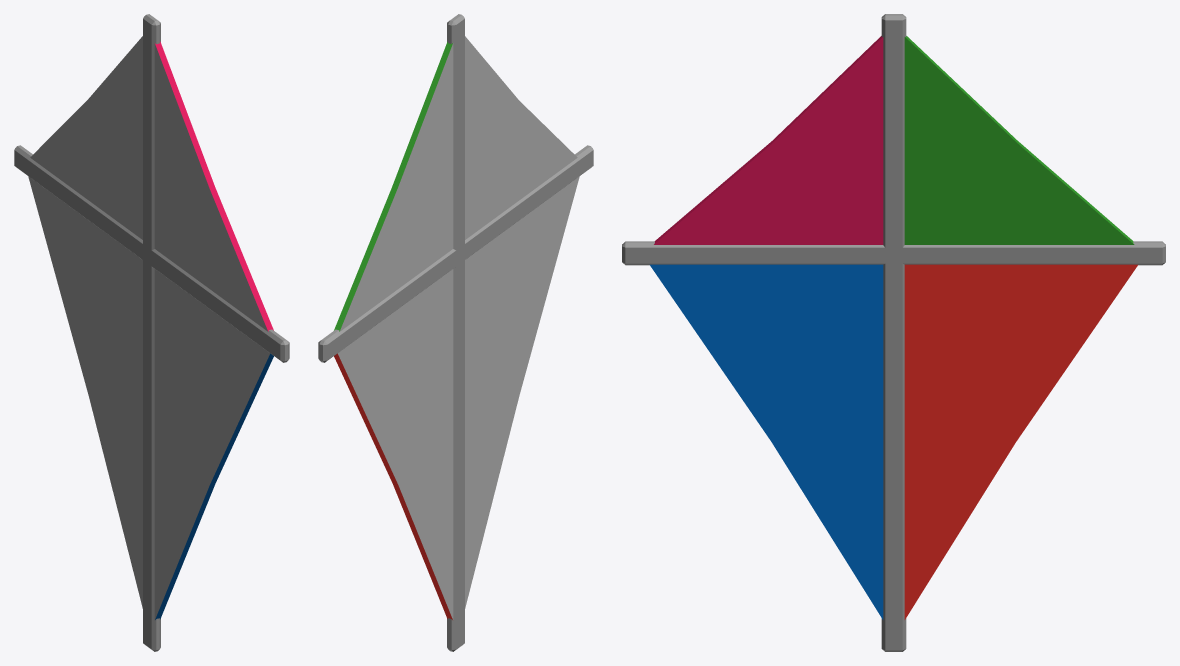
The model's file is Kite.fbx.
The picture shows the model from 3 angles, left to right: view 1: azimuth 30°, elevation 25°; view 2: azimuth 150°, elevation 25°; view 3: azimuth 270°, elevation 25°; orthographic projection.
Parts seen in each view (by area): view 1: Kite; view 2: Kite; view 3: Kite.
Boxes of the visible parts, x1,y1,x2,y2 form: Kite: [14, 14, 289, 651]; Kite: [318, 14, 593, 651]; Kite: [622, 14, 1165, 651].
Size of the model in its own units: 0.693 by 45.2 by 35.02.
